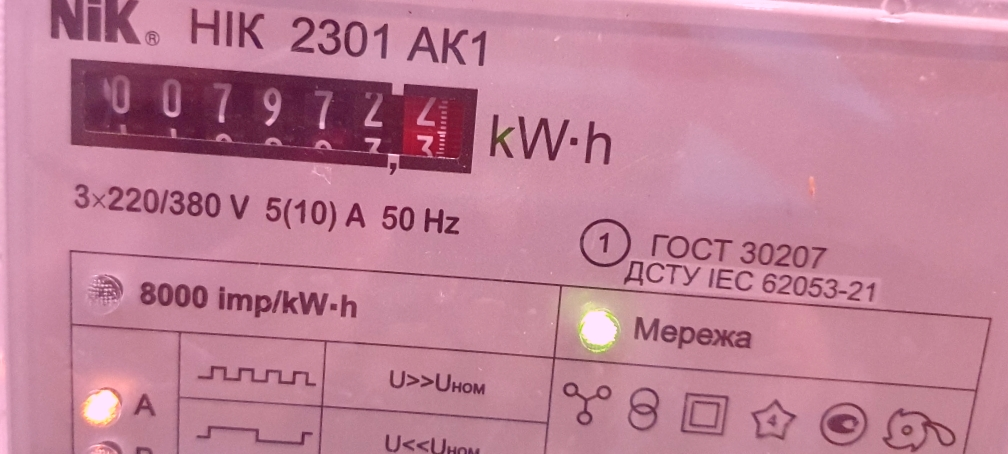0: (106, 71, 135, 114), (157, 74, 185, 118)
2: (360, 89, 387, 129), (412, 93, 438, 128)
3: (412, 130, 436, 157)
7: (307, 85, 336, 133), (207, 78, 235, 125)
9: (258, 83, 283, 127)
screen: (46, 41, 496, 192)
